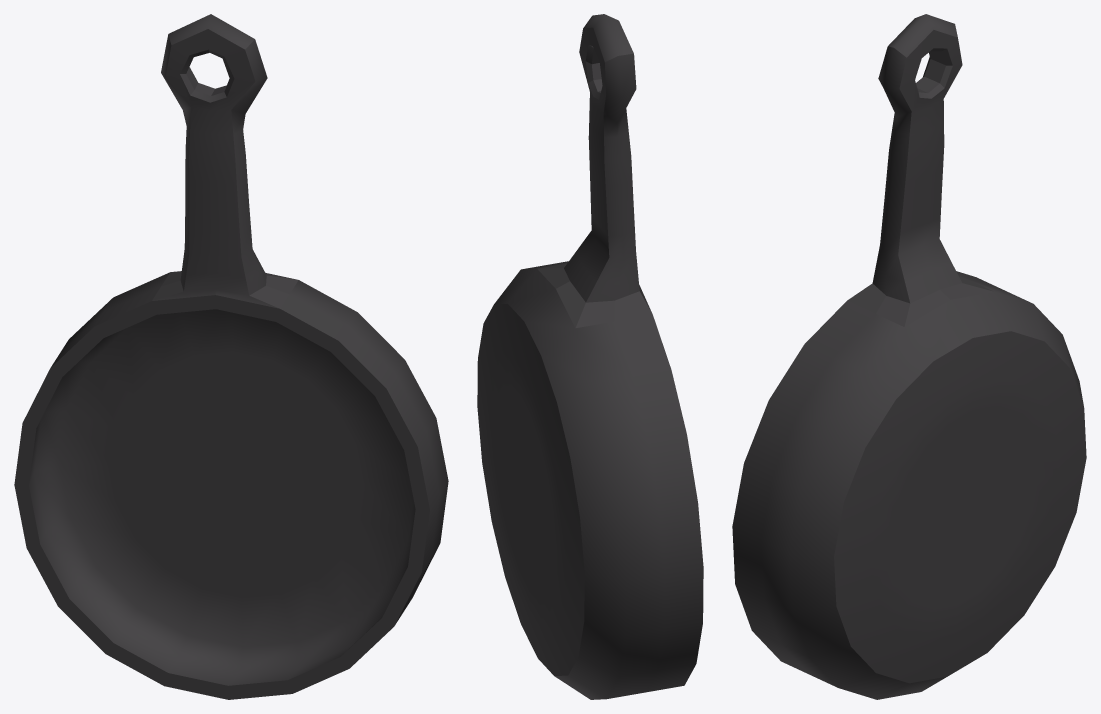
The model's file is pan.fbx.
The picture shows the model from 3 angles, left to right: view 1: azimuth 30°, elevation 25°; view 2: azimuth 150°, elevation 25°; view 3: azimuth 270°, elevation 25°; orthographic projection. The views are drawn at different scales.
Parts seen in each view (by area): view 1: pCylinder9; view 2: pCylinder9; view 3: pCylinder9.
Part boxes in pixels (x1,y1,x2,y2): pCylinder9: (14,14,448,699); pCylinder9: (477,14,703,699); pCylinder9: (732,14,1086,699).
Size of the model in its own units: 67.17 by 134 by 65.04.
